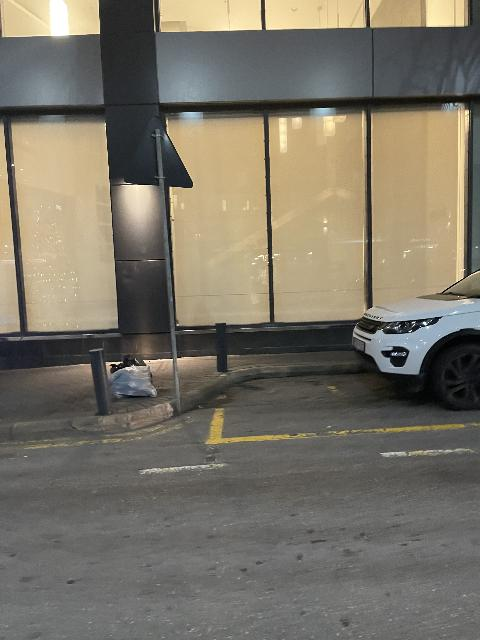Mixed -Black-: (110, 355, 145, 374)
Recyclable -Grey-: (108, 365, 157, 399)
